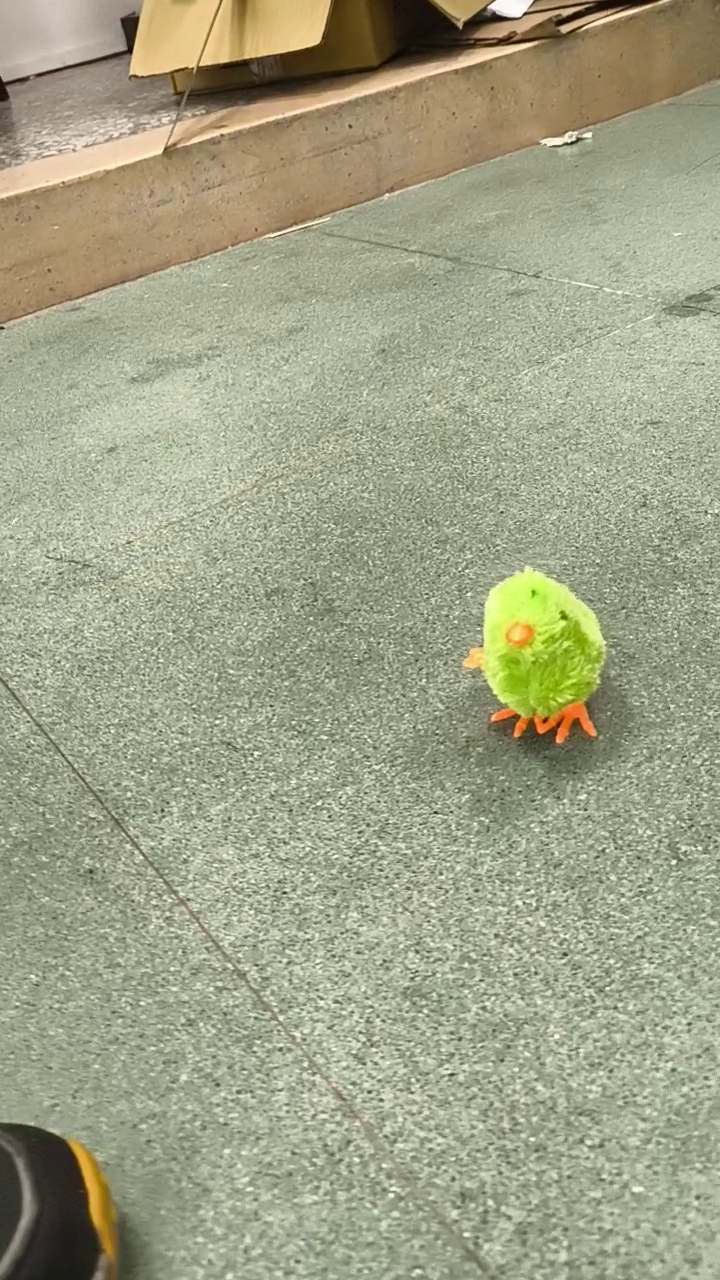green chicken: (461, 564, 611, 747)
